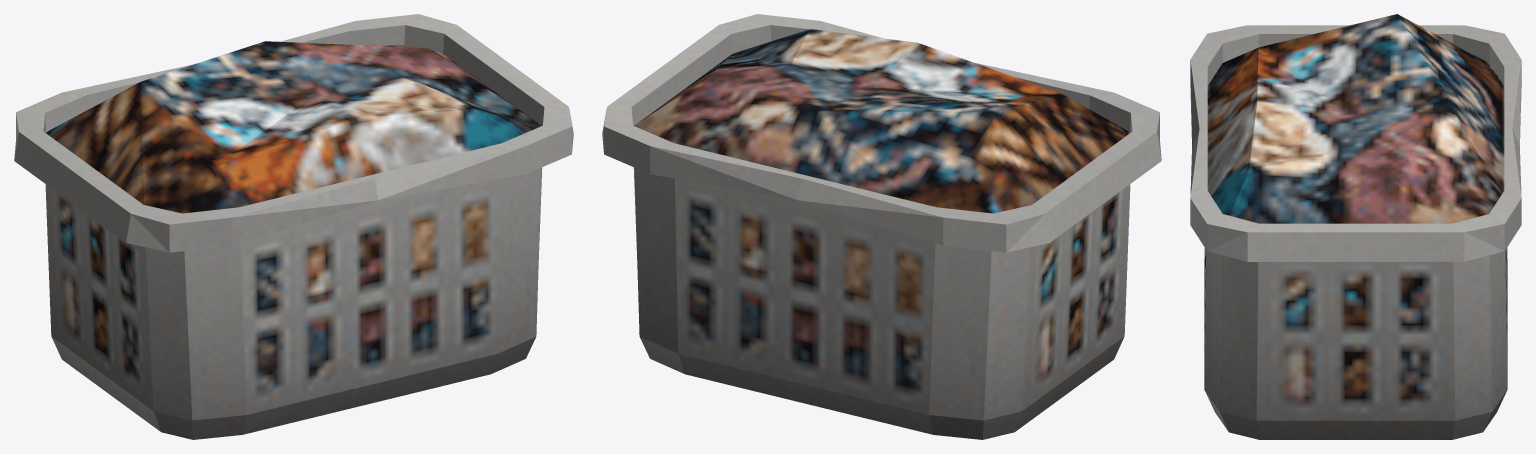
File: laundry-basket_filled.obj
3 renders of one model, left to right at view 1: azimuth 30°, elevation 25°; view 2: azimuth 150°, elevation 25°; view 3: azimuth 270°, elevation 25°, orthographic. The views are drawn at different scales.
Parts seen in each view (by area): view 1: laundry-basket_filled-col; view 2: laundry-basket_filled-col; view 3: laundry-basket_filled-col.
Part boxes in pixels (x1,y1,x2,y2): laundry-basket_filled-col: (14,14,573,439); laundry-basket_filled-col: (602,14,1161,439); laundry-basket_filled-col: (1190,14,1521,439).
Bounding box in the file's own units: 0.59 × 0.3732 × 0.39.
